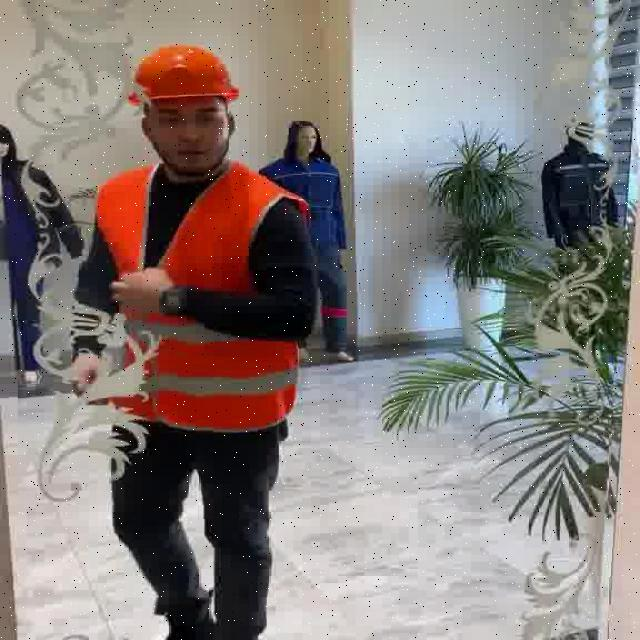Hard_hat: (117, 41, 245, 113)
Person: (65, 26, 352, 638)
Vest: (108, 160, 298, 444)
